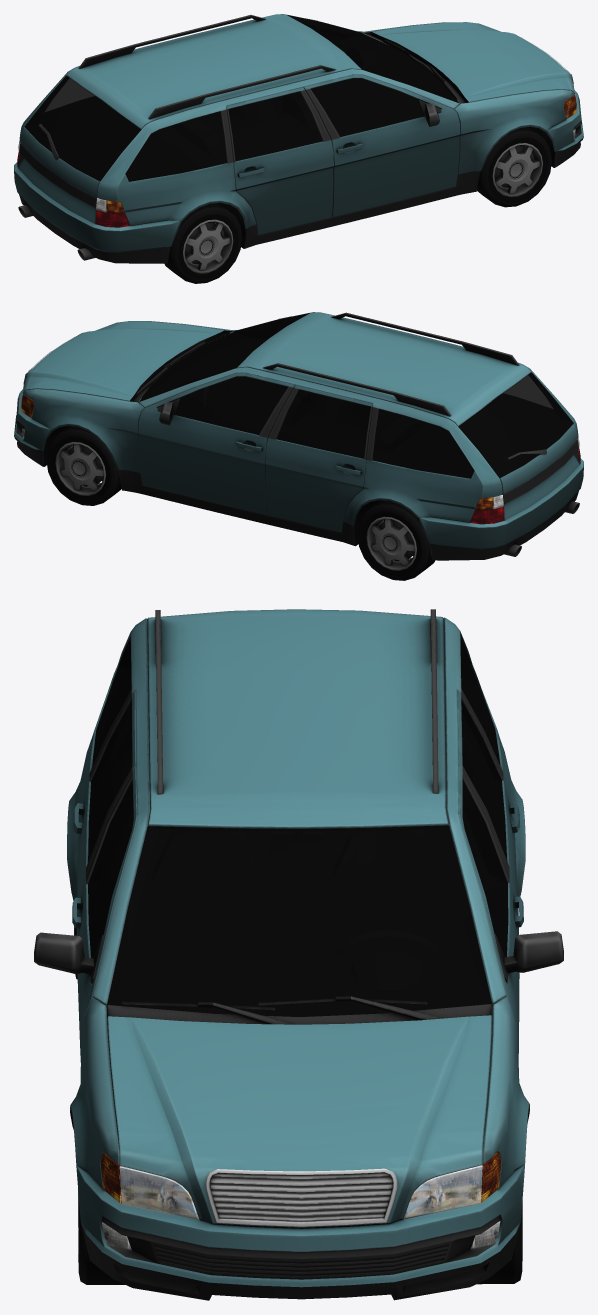
Rendered from Sedan3.glb.
The picture shows the model from 3 angles, top to bottom: view 1: azimuth 30°, elevation 25°; view 2: azimuth 150°, elevation 25°; view 3: azimuth 270°, elevation 25°; orthographic projection. The views are drawn at different scales.
Visible parts, largest first — view 1: Wagon Body_Body_0; view 2: Wagon Body_Body_0; view 3: Wagon Body_Body_0.
Boxes of the visible parts, box(x1,y1,x2,y2) form: Wagon Body_Body_0: box(14, 14, 583, 283); Wagon Body_Body_0: box(14, 312, 583, 580); Wagon Body_Body_0: box(34, 609, 563, 1300).
Size of the model in its own units: 4.38 by 1.38 by 1.95.
4 materials, 3 textured.
